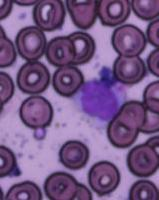L: (70, 75, 128, 127)
